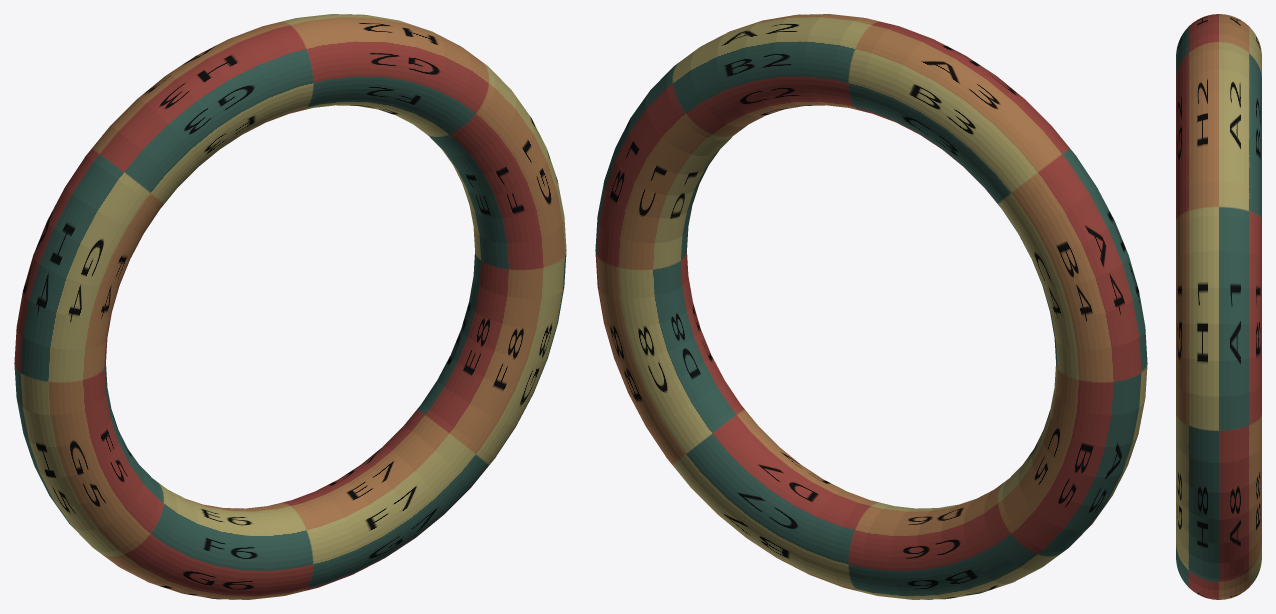
File: texture_torus_R28_r11.glb
The picture shows the model from 3 angles, left to right: view 1: azimuth 30°, elevation 25°; view 2: azimuth 150°, elevation 25°; view 3: azimuth 270°, elevation 25°; orthographic projection. The views are drawn at different scales.
Visible parts, largest first — view 1: world; view 2: world; view 3: world.
Part boxes in pixels (x1,y1,x2,y2): world: [14, 14, 566, 599]; world: [595, 14, 1147, 599]; world: [1176, 14, 1261, 599].
Bounding box in the file's own units: 33.6 × 33.53 × 4.92.
Materials: 1 (1 with a texture image).
